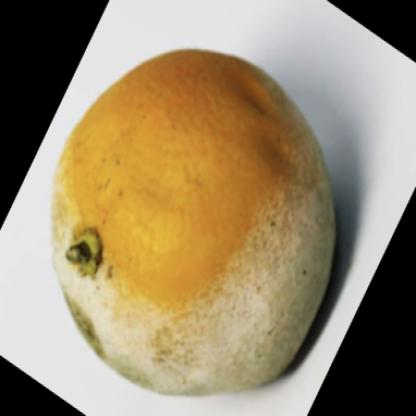rotten: (52, 48, 338, 394)
